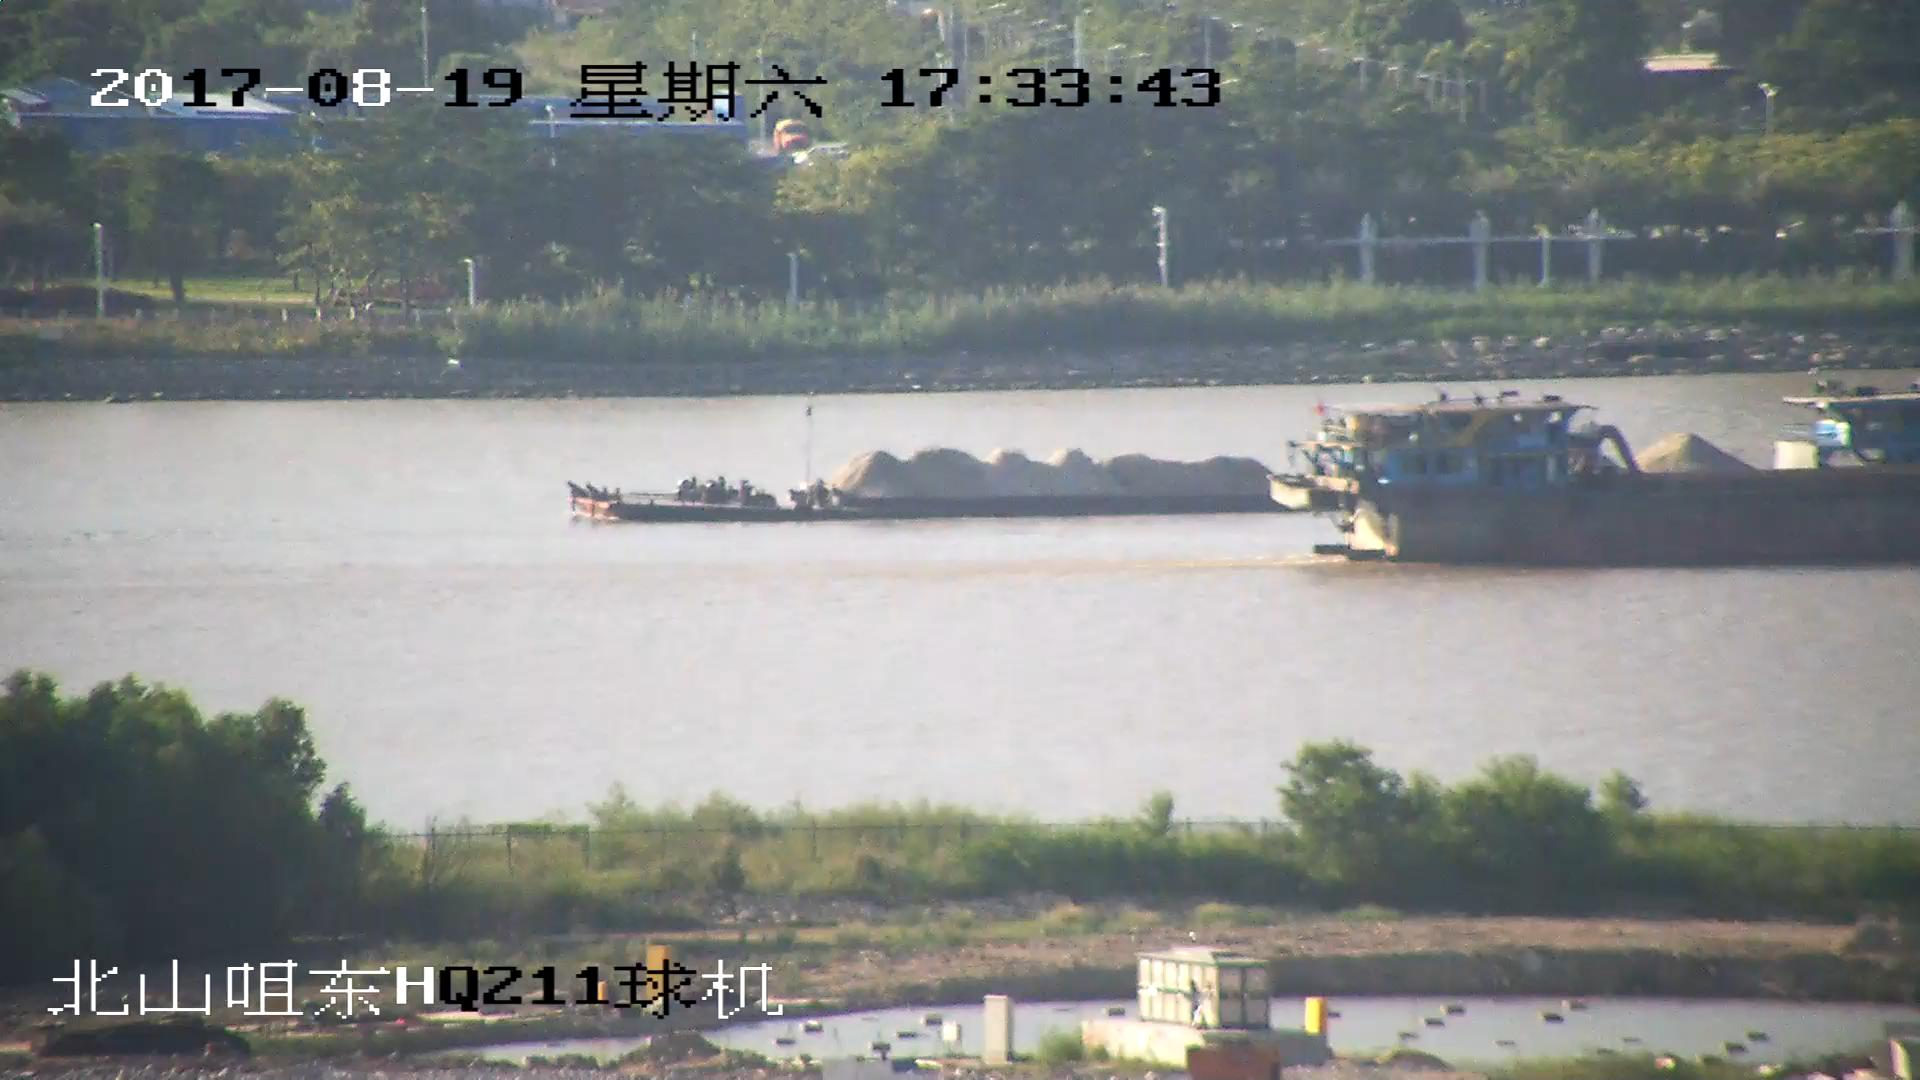bulk cargo carrier: (1274, 403, 1920, 566)
ore carrier: (561, 399, 1920, 525)
